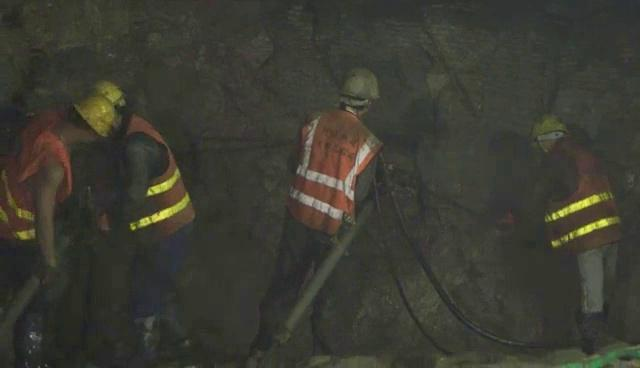helmet: (64, 91, 115, 143), (337, 67, 381, 116), (528, 113, 570, 158), (83, 80, 129, 116)
